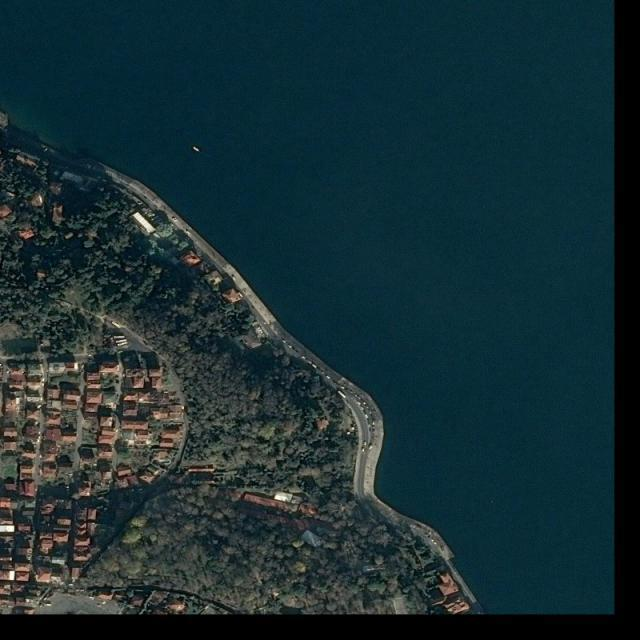ship: (192, 146, 202, 154)
